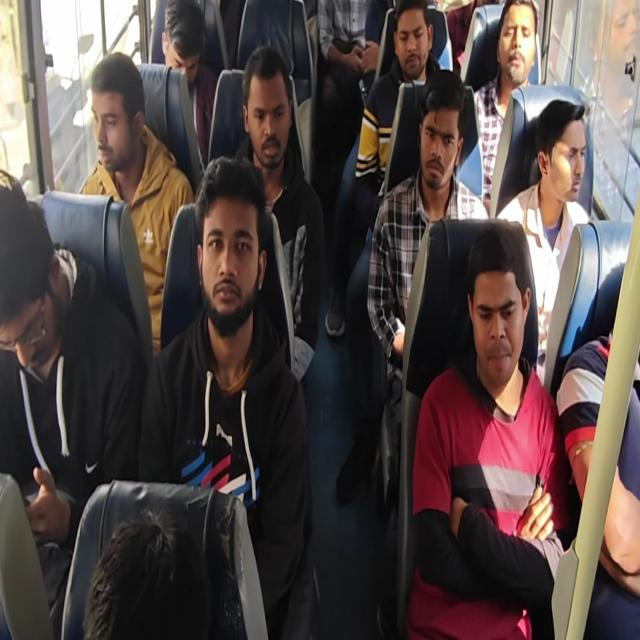person: (1, 1, 638, 638), (138, 154, 318, 638), (405, 220, 572, 638), (0, 184, 144, 636), (324, 0, 442, 338), (366, 69, 489, 388), (77, 51, 195, 355), (232, 45, 325, 385), (496, 98, 592, 364), (556, 331, 639, 597), (82, 509, 213, 639), (471, 0, 539, 211), (579, 0, 639, 220), (160, 0, 218, 168), (318, 0, 380, 81)
